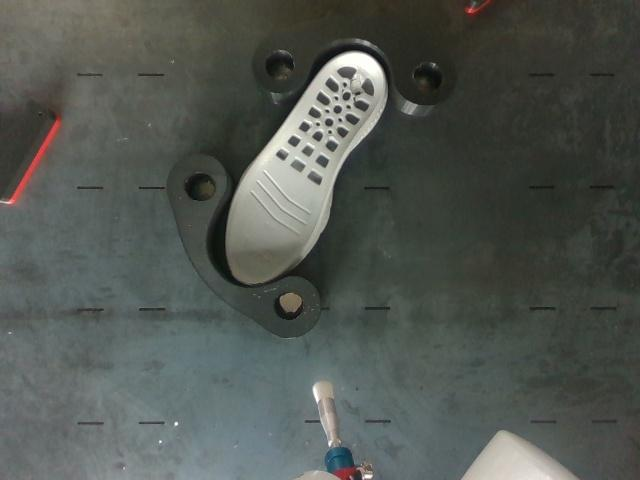shoes: (226, 54, 384, 283)
